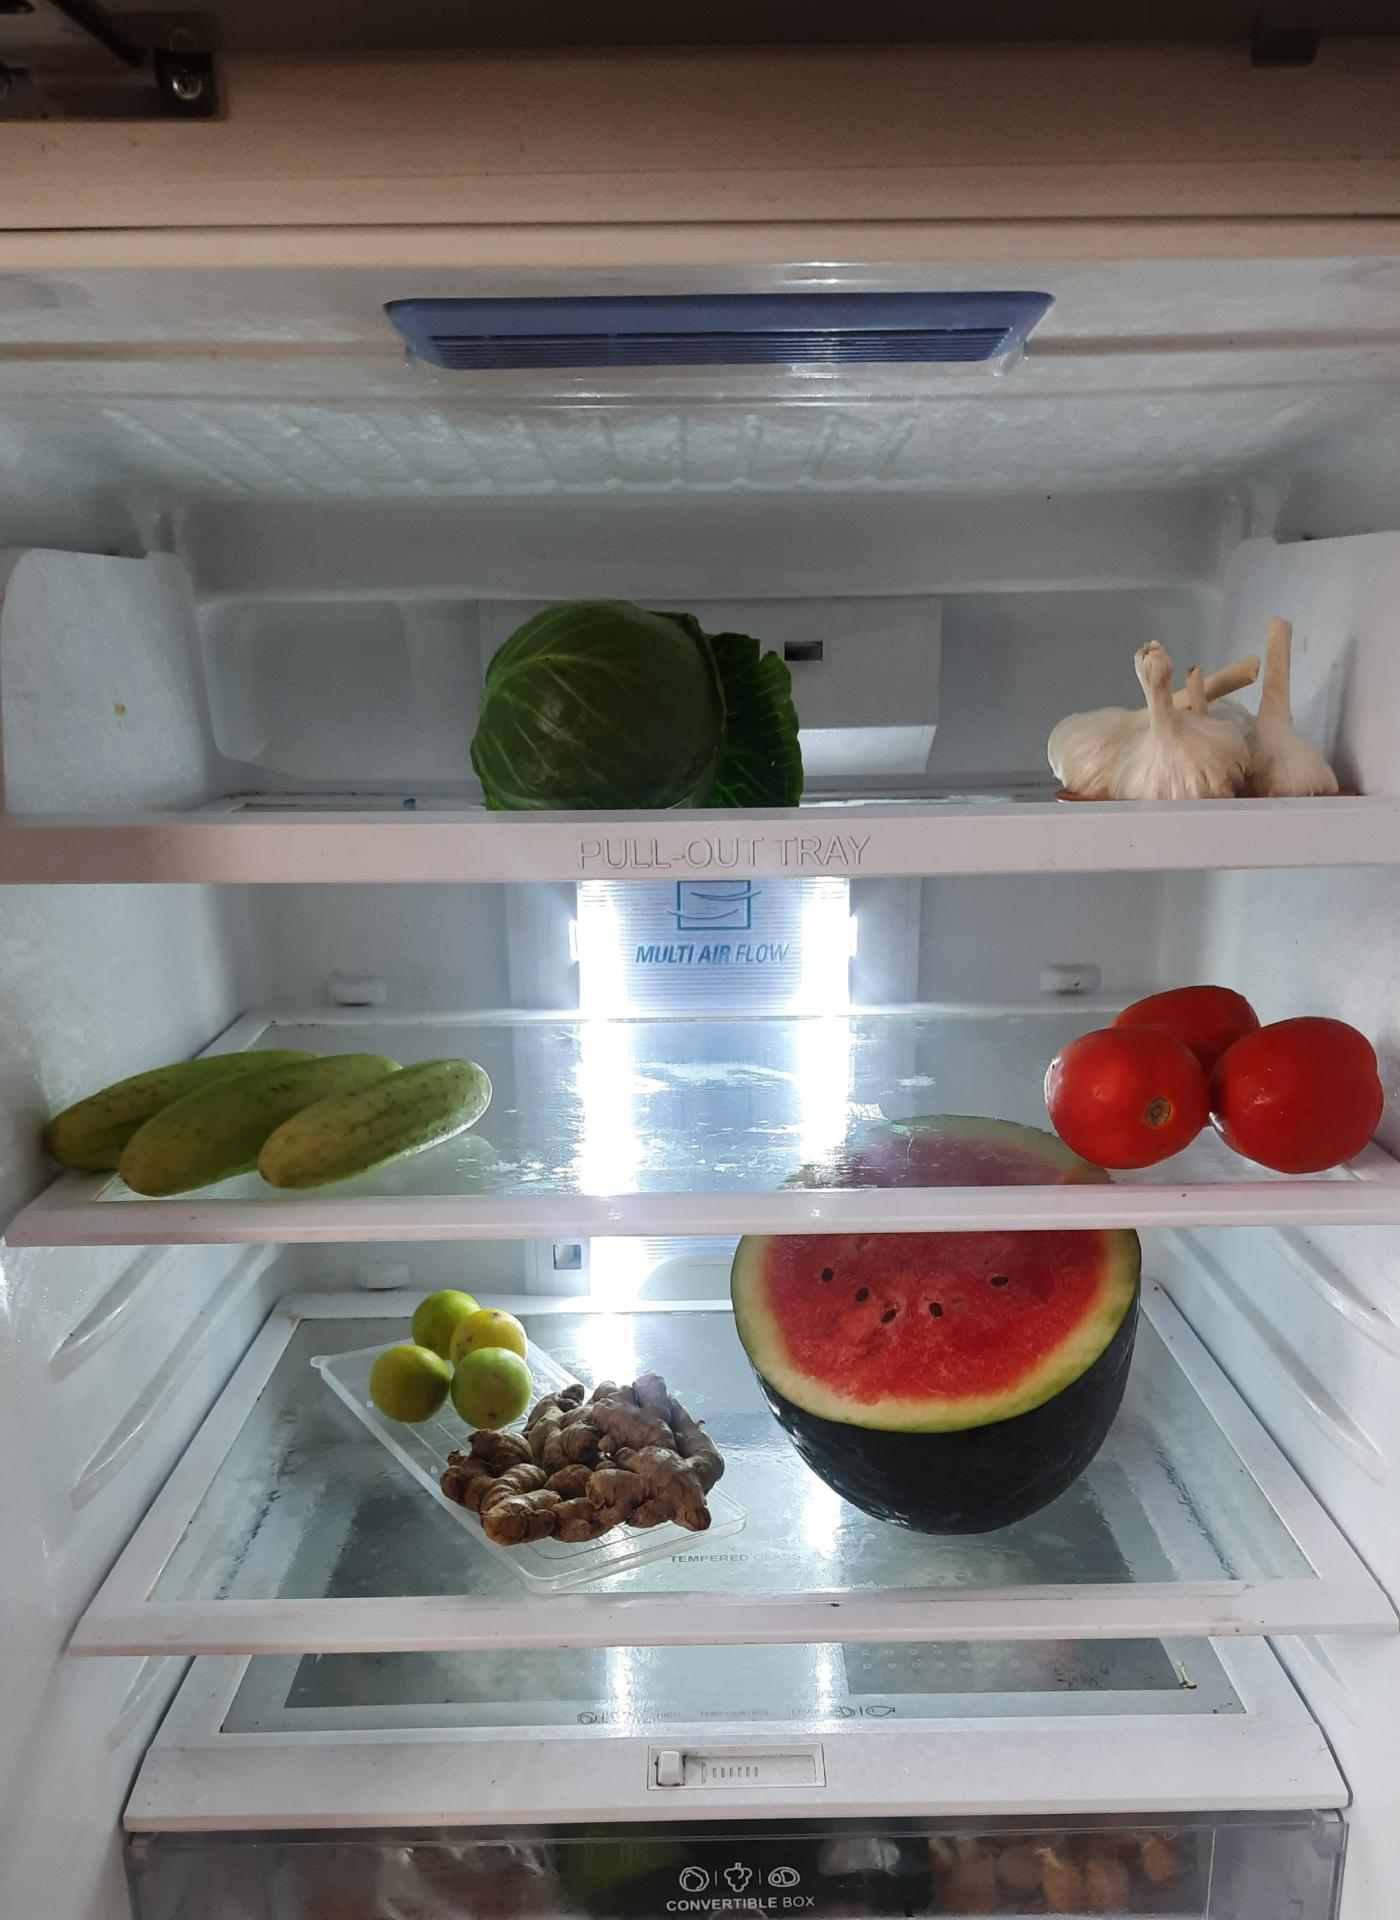cabbage: (459, 595, 799, 808)
cucumber: (48, 1030, 499, 1188)
garlic: (1044, 625, 1346, 809)
ginger: (441, 1376, 725, 1552)
lemon: (374, 1286, 537, 1427)
tomato: (1048, 975, 1388, 1170)
watermelon: (735, 1112, 1150, 1526)
